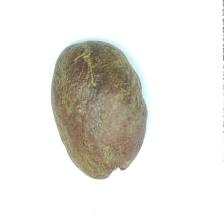NG: (72, 39, 142, 105)
